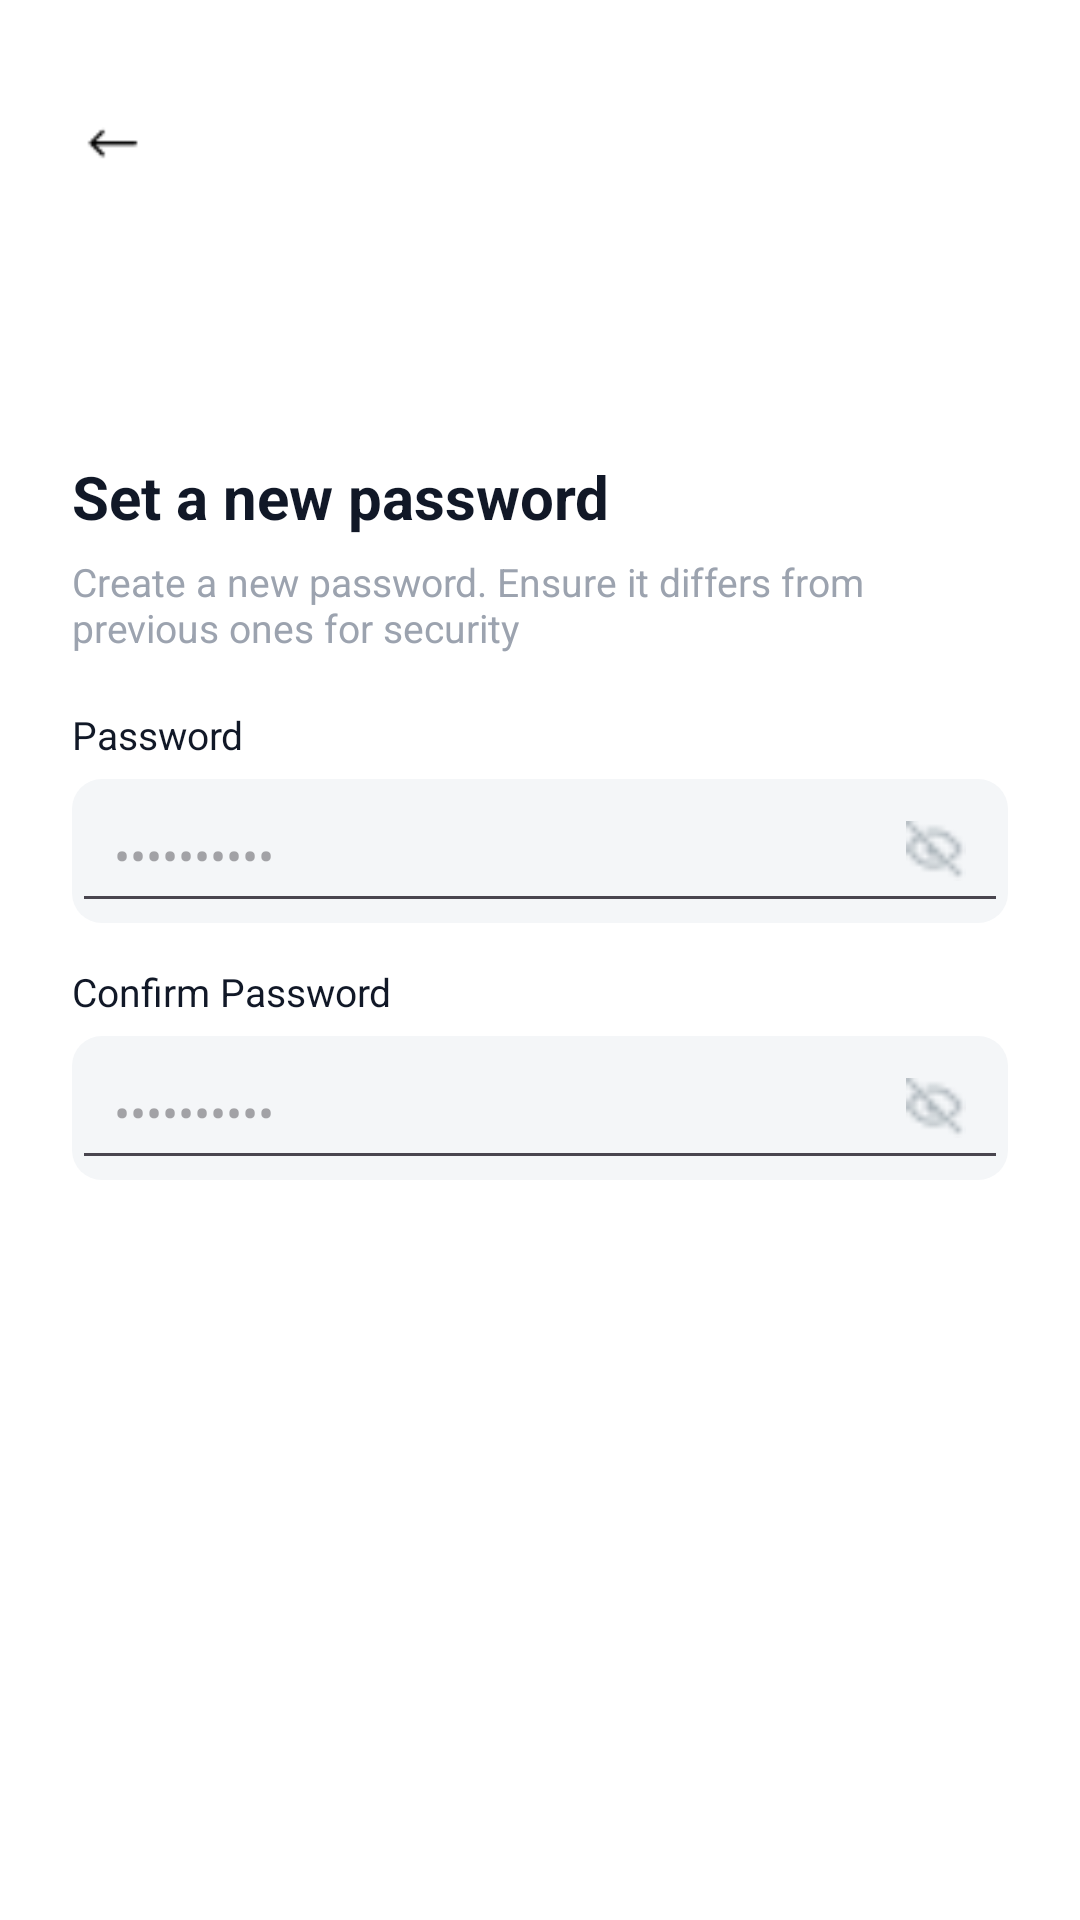

Icons on this 1080w x 1920h Android screen, each with its box as [x1=x1, y1=y1, x2=x2, y2=y2]:
back arrow: [x1=88, y1=129, x2=138, y2=158]
no look: [x1=906, y1=821, x2=962, y2=876], [x1=906, y1=1078, x2=962, y2=1133]
